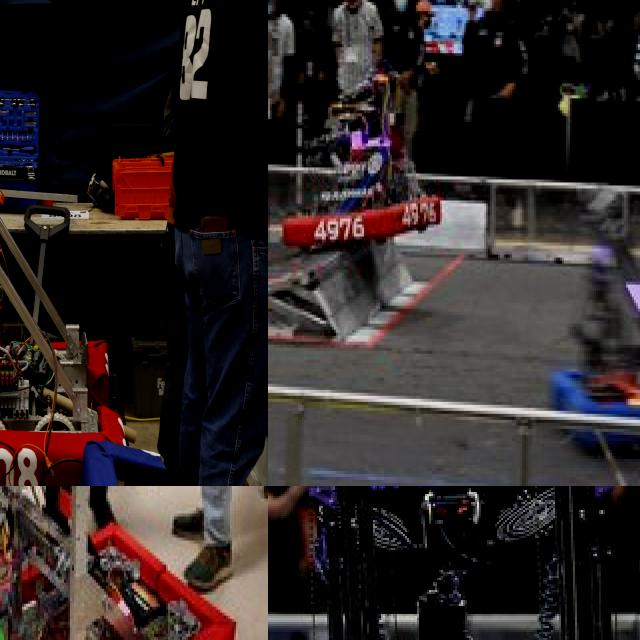FRC-Robots: (0, 34, 154, 486), (268, 486, 640, 640), (0, 486, 252, 640), (296, 62, 436, 270), (545, 264, 640, 478)
